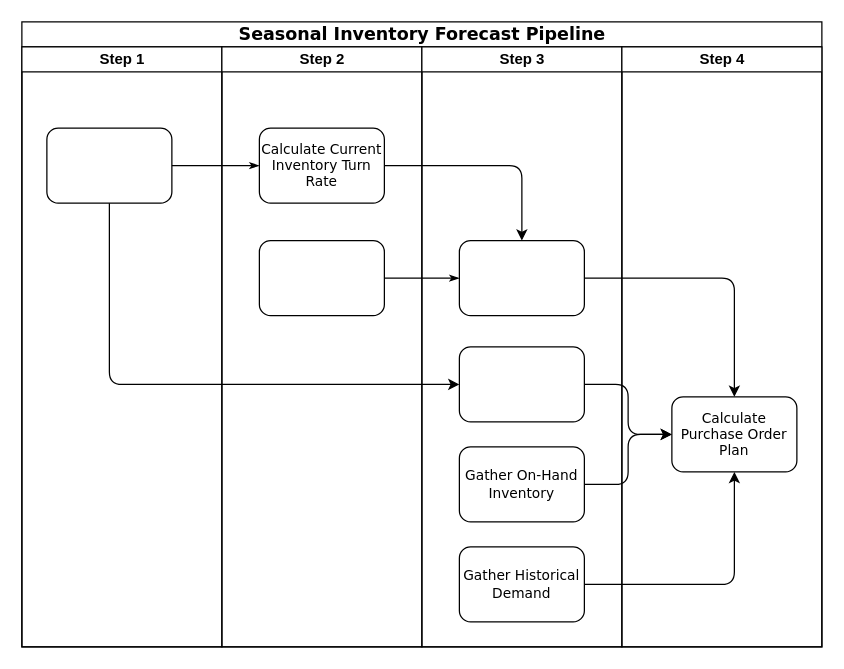
The diagram is 844 pixels wide and 669 high, and some of its shapes have lost their labels. Here are the shapes that lost their labels. From the top down, the centre of each, then its label:
pixel 109 165: Find Seasonal Items
pixel 321 277: Gather Weather Forecast
pixel 521 277: Produce Weather Adjusted Turn Rate
pixel 521 384: Gather Purchase Order Lead Times
